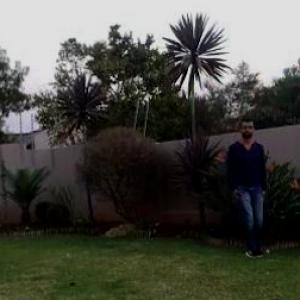follow: (227, 114, 269, 256)
